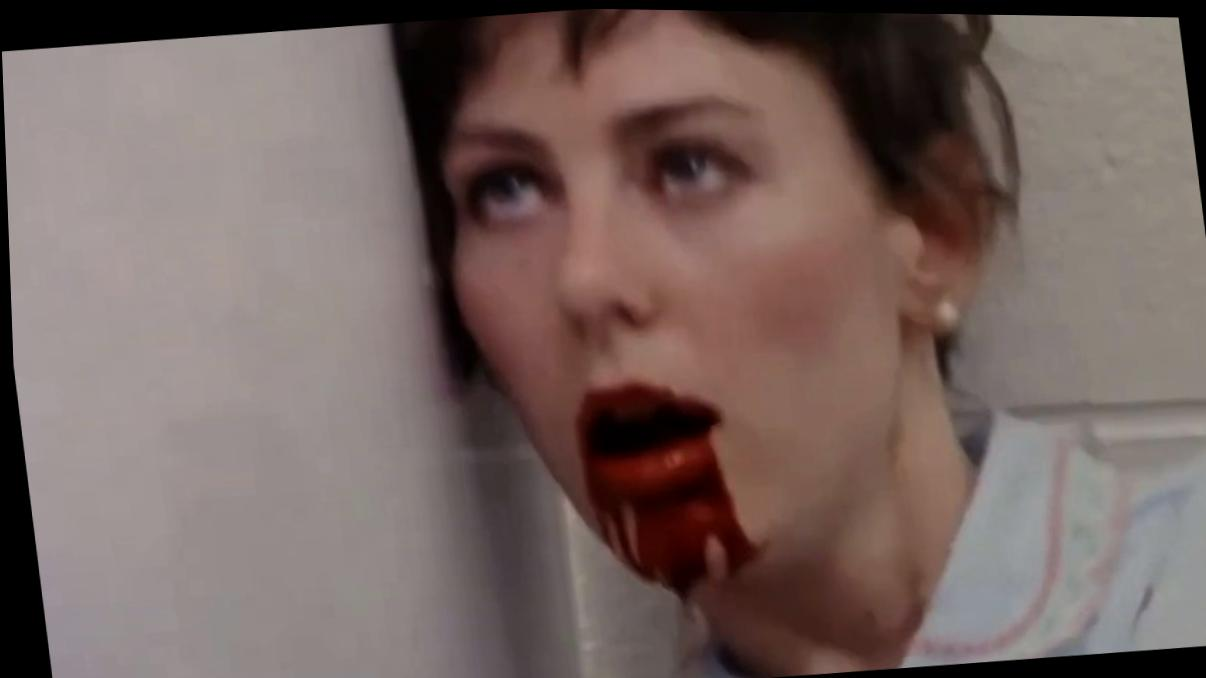Fire: (577, 384, 756, 587)
